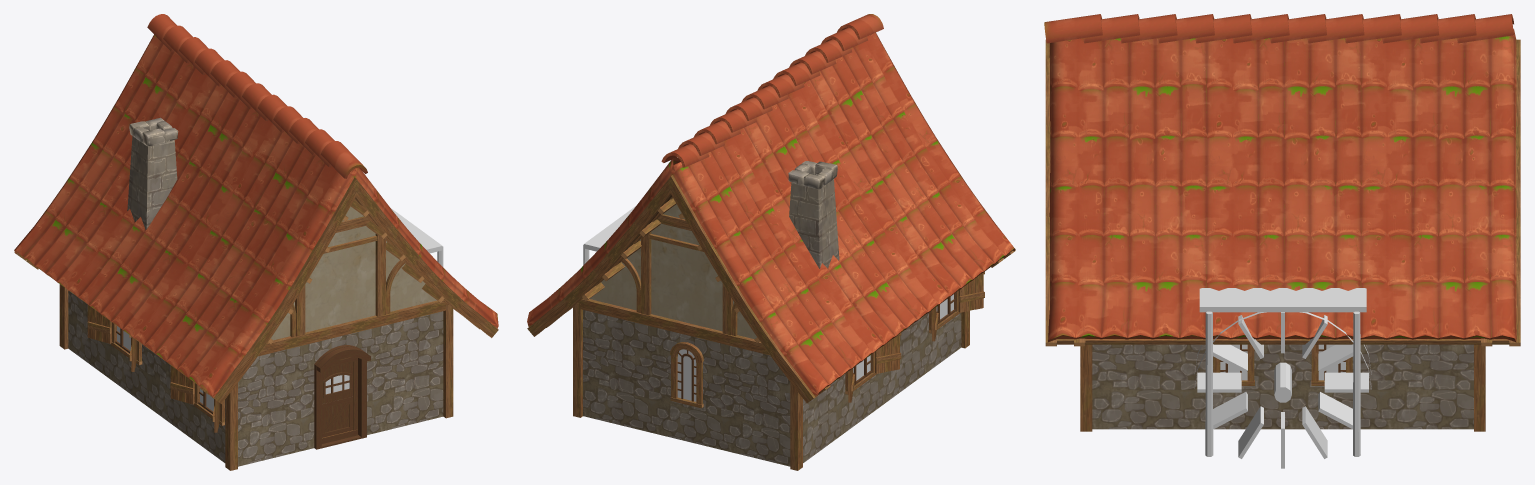
The model's file is fx_watermill.gltf.
3 renders of one model, left to right at view 1: azimuth 30°, elevation 25°; view 2: azimuth 150°, elevation 25°; view 3: azimuth 270°, elevation 25°, orthographic. The views are drawn at different scales.
Parts seen in each view (by area): view 1: T1_KitRoofRoundTiles6x8046, T1_KitRoofFrontBrick6047, T1_KitWallUnevenBrickStraight006, T1_KitWallUnevenBrickStraight001, T1_KitPropChimney049, T1_KitWallUnevenBrickDoorRound002, T1_KitDoor1Round004, T1_KitDoorFrameRoundWoodDark003, T1_KitWallUnevenBrickStraight017, T1_KitWallUnevenBrickStraight012, T1_KitWallUnevenBrickWindowWideRound013, T1_KitWallUnevenBrickWindowWideRound018 (+5 smaller); view 2: T1_KitRoofRoundTiles6x8046, T1_KitRoofFrontBrick6048, T1_KitWallUnevenBrickStraight007, T1_KitWallUnevenBrickStraight011, T1_KitWallUnevenBrickWindowThinRound008, T1_KitPropChimney049, T1_KitWallUnevenBrickStraight012, T1_KitWallUnevenBrickStraight017, T1_KitWallUnevenBrickWindowWideRound013, T1_KitWallUnevenBrickWindowWideRound018, T1_KitWindowThinRound1009, T1_KitCornerExteriorWood032 (+5 smaller); view 3: T1_KitRoofRoundTiles6x8046, T1_KitWallUnevenBrickStraight022, T1_KitWallUnevenBrickStraight029, T1_Wheel050, T1_KitWallUnevenBrickWindowThinRound026, T1_KitWallUnevenBrickWindowThinRound023, T2_Wheel050, T2_Race051, T1_Race051, T1_RacePost052, T1_KitCornerExteriorWood031, T1_RacePost053 (+5 smaller).
Boxes of the visible parts, <box> form: T1_KitRoofRoundTiles6x8046: <box>14,14,498,403</box>; T1_KitRoofFrontBrick6047: <box>258,200,453,356</box>; T1_KitWallUnevenBrickStraight006: <box>375,311,443,432</box>; T1_KitWallUnevenBrickStraight001: <box>238,345,303,466</box>; T1_KitPropChimney049: <box>127,117,178,229</box>; T1_KitWallUnevenBrickDoorRound002: <box>303,328,375,450</box>; T1_KitDoor1Round004: <box>321,357,357,443</box>; T1_KitDoorFrameRoundWoodDark003: <box>314,345,370,449</box>; T1_KitWallUnevenBrickStraight017: <box>148,349,190,437</box>; T1_KitWallUnevenBrickStraight012: <box>68,290,107,376</box>; T1_KitWallUnevenBrickWindowWideRound013: <box>107,343,148,406</box>; T1_KitWallUnevenBrickWindowWideRound018: <box>190,399,225,462</box>; T1_KitRoofRoundTiles6x8046: <box>527,14,1015,403</box>; T1_KitRoofFrontBrick6048: <box>572,198,769,355</box>; T1_KitWallUnevenBrickStraight007: <box>583,310,651,432</box>; T1_KitWallUnevenBrickStraight011: <box>724,344,790,466</box>; T1_KitWallUnevenBrickWindowThinRound008: <box>651,326,723,450</box>; T1_KitPropChimney049: <box>788,161,839,268</box>; T1_KitWallUnevenBrickStraight012: <box>803,379,838,462</box>; T1_KitWallUnevenBrickStraight017: <box>880,318,921,406</box>; T1_KitWallUnevenBrickWindowWideRound013: <box>838,373,880,437</box>; T1_KitWallUnevenBrickWindowWideRound018: <box>922,313,961,375</box>; T1_KitWindowThinRound1009: <box>670,342,703,408</box>; T1_KitCornerExteriorWood032: <box>573,303,582,417</box>; T1_KitRoofRoundTiles6x8046: <box>1044,14,1520,346</box>; T1_KitWallUnevenBrickStraight022: <box>1092,344,1184,429</box>; T1_KitWallUnevenBrickStraight029: <box>1381,344,1473,429</box>; T1_Wheel050: <box>1194,312,1371,402</box>; T1_KitWallUnevenBrickWindowThinRound026: <box>1283,344,1381,429</box>; T1_KitWallUnevenBrickWindowThinRound023: <box>1184,344,1282,429</box>; T2_Wheel050: <box>1197,312,1370,468</box>; T2_Race051: <box>1199,288,1366,312</box>; T1_Race051: <box>1199,288,1366,312</box>; T1_RacePost052: <box>1205,311,1213,456</box>; T1_KitCornerExteriorWood031: <box>1080,344,1092,431</box>; T1_RacePost053: <box>1353,311,1360,456</box>.
Size of the model in its own units: 8.47 by 8.29 by 9.68.
Materials: 29 (29 with a texture image).
